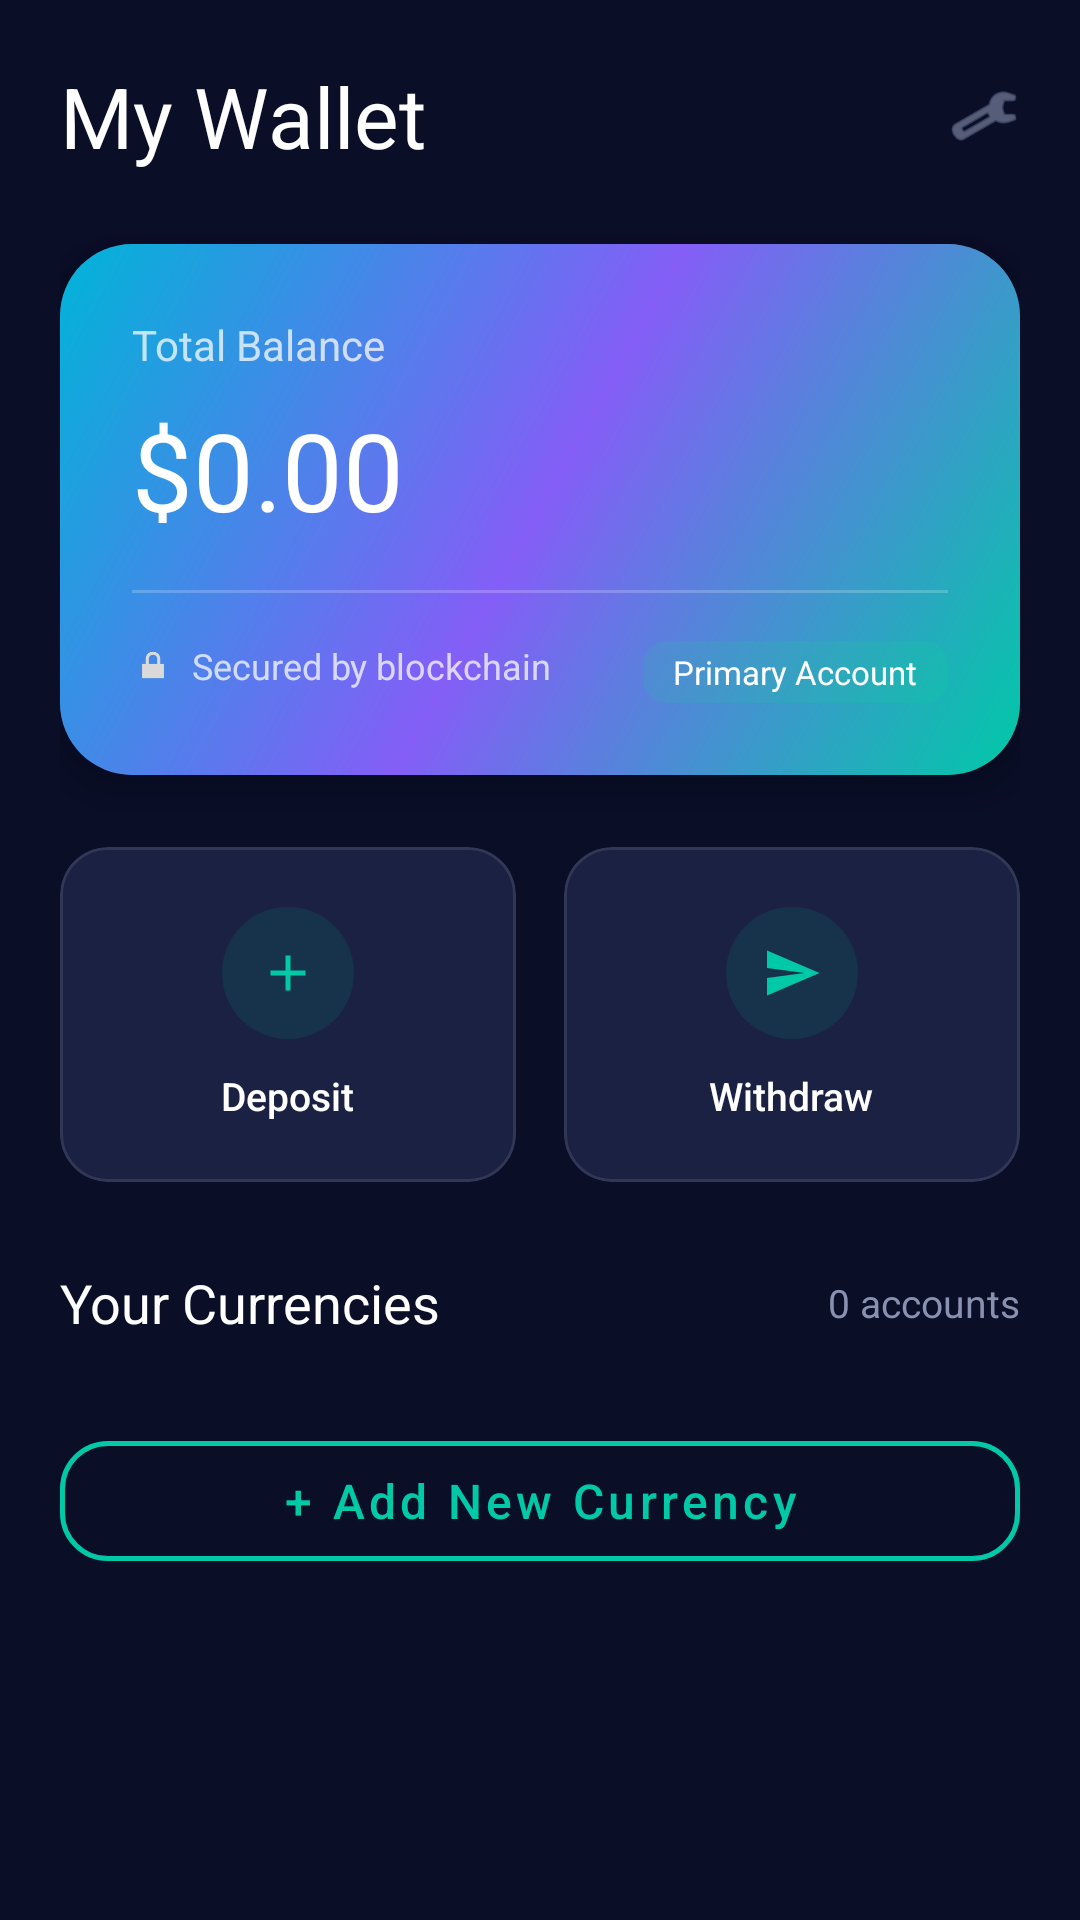

Icon bounding boxes for this 1080px×1920px phone screenshot, format (x1, y1, x2, y2):
add: (270, 955, 306, 991)
manage: (952, 91, 1016, 141)
send: (767, 950, 819, 996)
